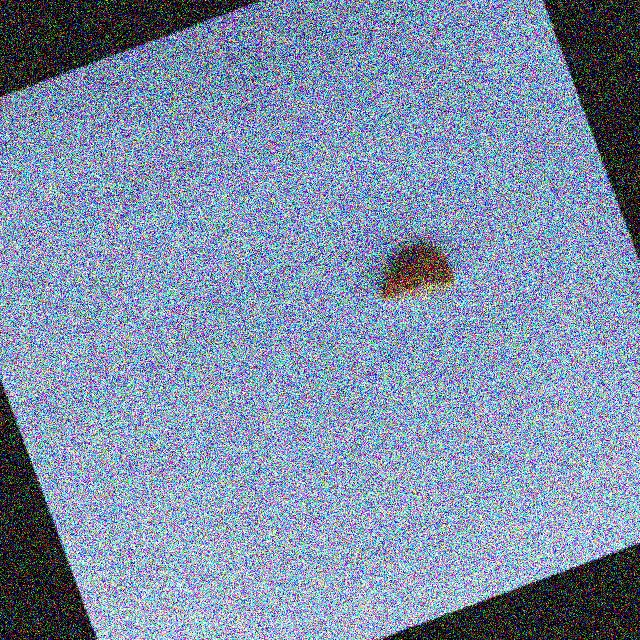grade4: (359, 230, 466, 320)
